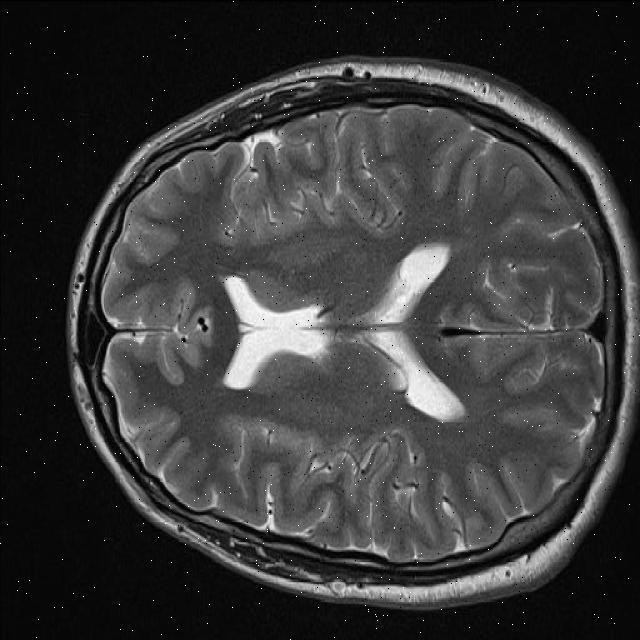No_Tumor: (68, 58, 639, 608)
